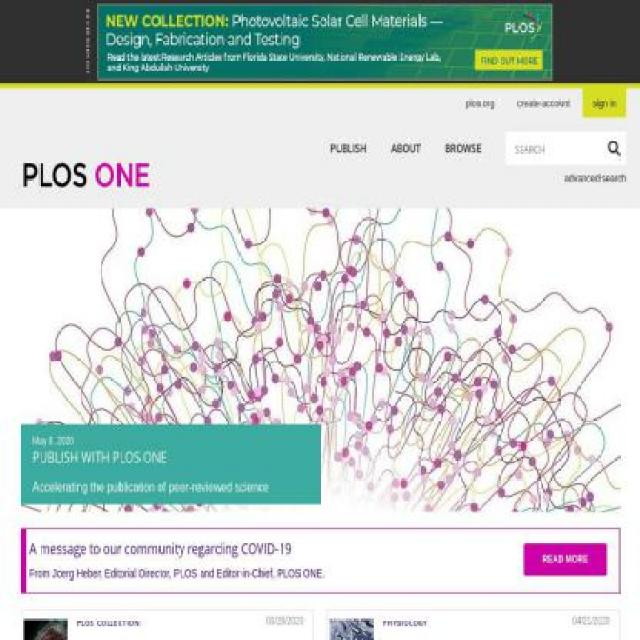button: (20, 351, 620, 367), (380, 166, 432, 260), (380, 468, 432, 544), (505, 165, 627, 192), (523, 543, 608, 577), (507, 84, 581, 118), (380, 259, 432, 301), (380, 342, 432, 384), (380, 426, 432, 468), (380, 586, 432, 628), (380, 301, 432, 342), (380, 384, 432, 425), (380, 544, 432, 585), (454, 84, 506, 118), (582, 84, 627, 118), (330, 619, 381, 639), (24, 619, 74, 639), (380, 627, 432, 639)
field: (512, 138, 606, 160)
